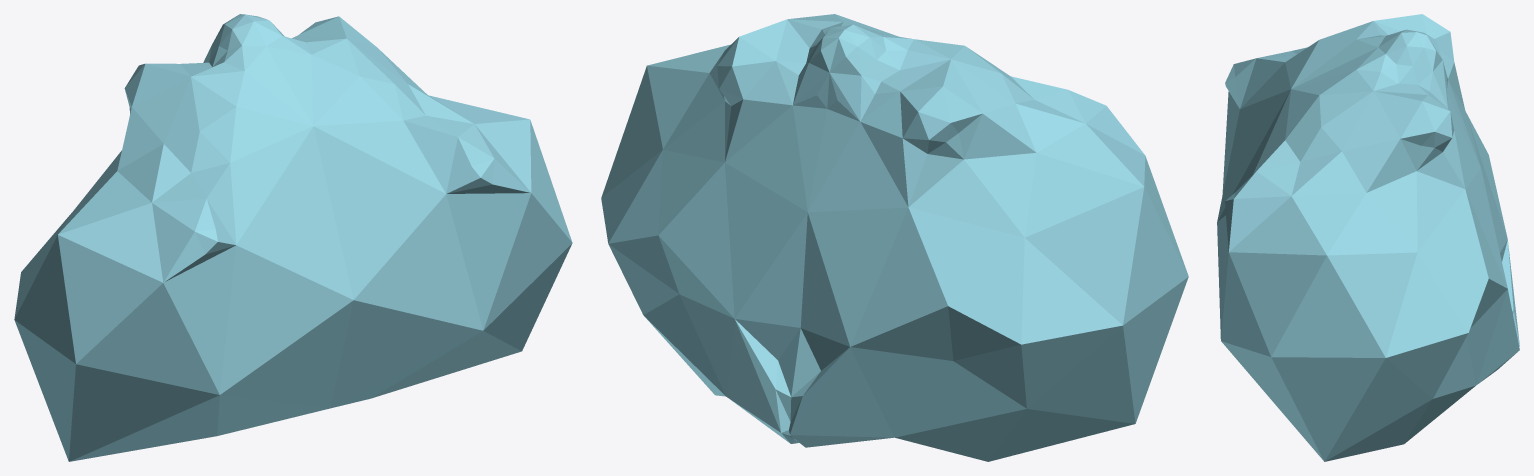
Rendered from new lt blue killer T cell .fbx.
3 renders of one model, left to right at view 1: azimuth 30°, elevation 25°; view 2: azimuth 150°, elevation 25°; view 3: azimuth 270°, elevation 25°, orthographic. The views are drawn at different scales.
Parts seen in each view (by area): view 1: Smaller_Killer_T_Cell:Mesh; view 2: Smaller_Killer_T_Cell:Mesh; view 3: Smaller_Killer_T_Cell:Mesh.
Boxes of the visible parts, x1=… form: Smaller_Killer_T_Cell:Mesh: x1=14, y1=14, x2=572, y2=461; Smaller_Killer_T_Cell:Mesh: x1=601, y1=14, x2=1188, y2=461; Smaller_Killer_T_Cell:Mesh: x1=1217, y1=14, x2=1519, y2=461.
Size of the model in its own units: 16.35 by 12.07 by 9.36.
